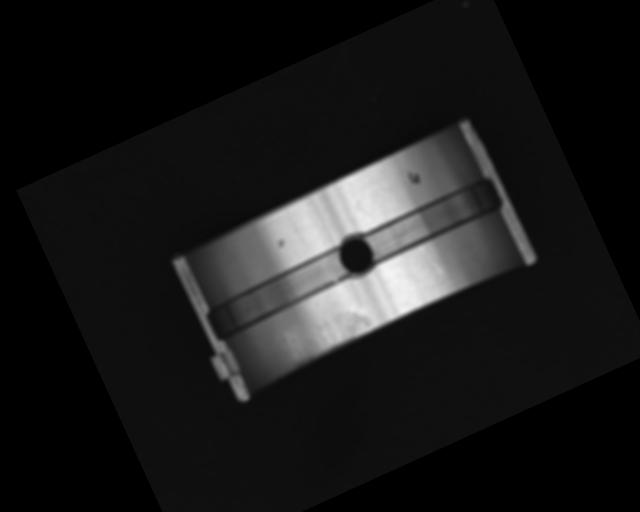blot: (405, 167, 422, 188)
bruise: (275, 238, 286, 249)
gap: (201, 244, 357, 343), (358, 173, 507, 268)
hole: (332, 228, 382, 284)
nick: (419, 241, 445, 280), (287, 215, 305, 245)
scratch: (275, 296, 377, 371)
